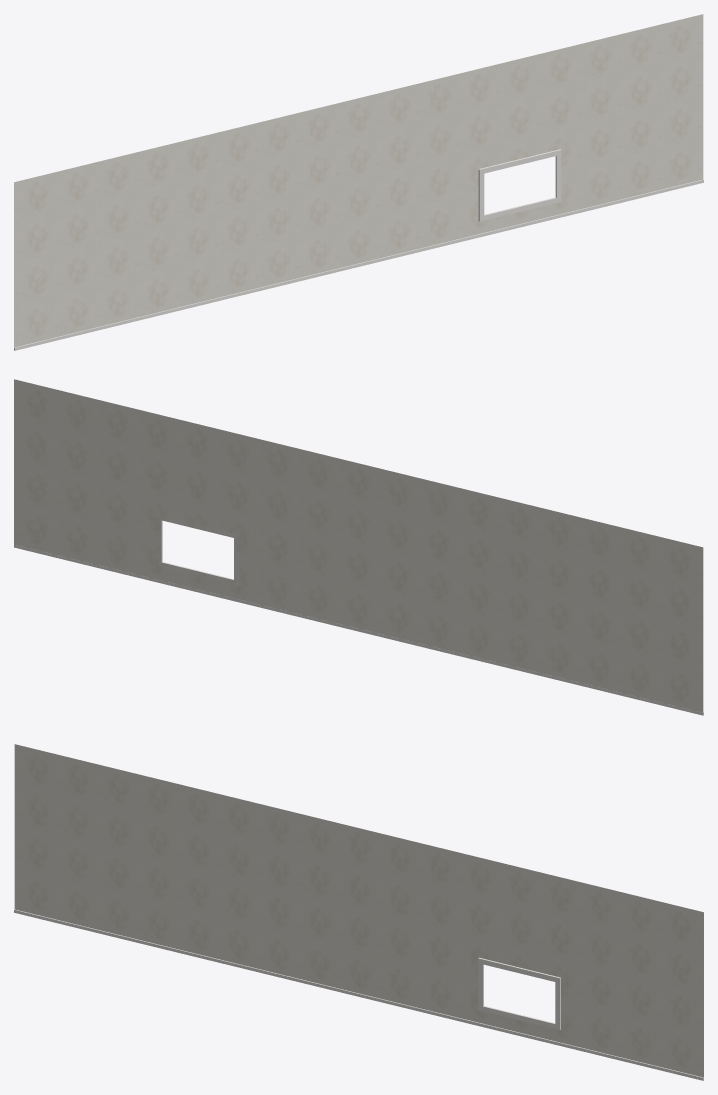
3 views of the same model, one above another, from view 1: azimuth 30°, elevation 25°; view 2: azimuth 150°, elevation 25°; view 3: azimuth 330°, elevation 25° (orthographic).
Parts seen in each view (by area): view 1: jx_wm_34_9882350c; view 2: jx_wm_34_9882350c; view 3: jx_wm_34_9882350c.
Part boxes in pixels (box(x1,y1,x2,y2)): jx_wm_34_9882350c: box(14, 14, 703, 350); jx_wm_34_9882350c: box(14, 379, 703, 715); jx_wm_34_9882350c: box(14, 744, 703, 1080).
Size of the model in its own units: 34.3 by 8 by 0.086.
2 materials, 2 textured.
